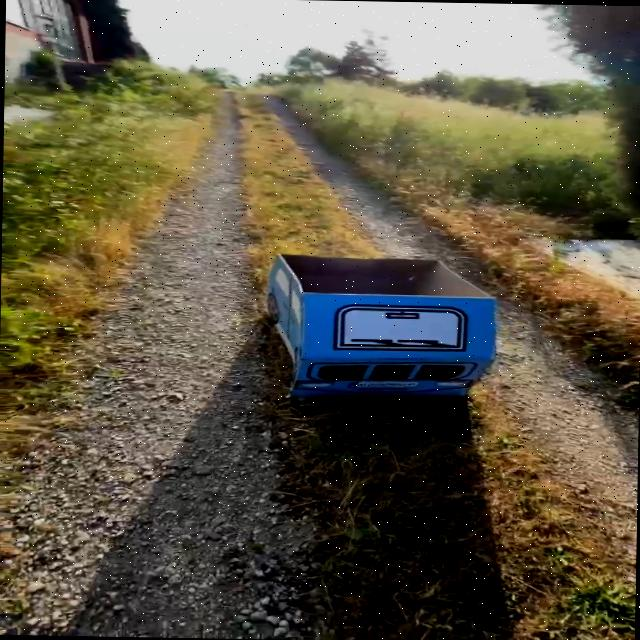blue_car: (192, 218, 542, 433)
